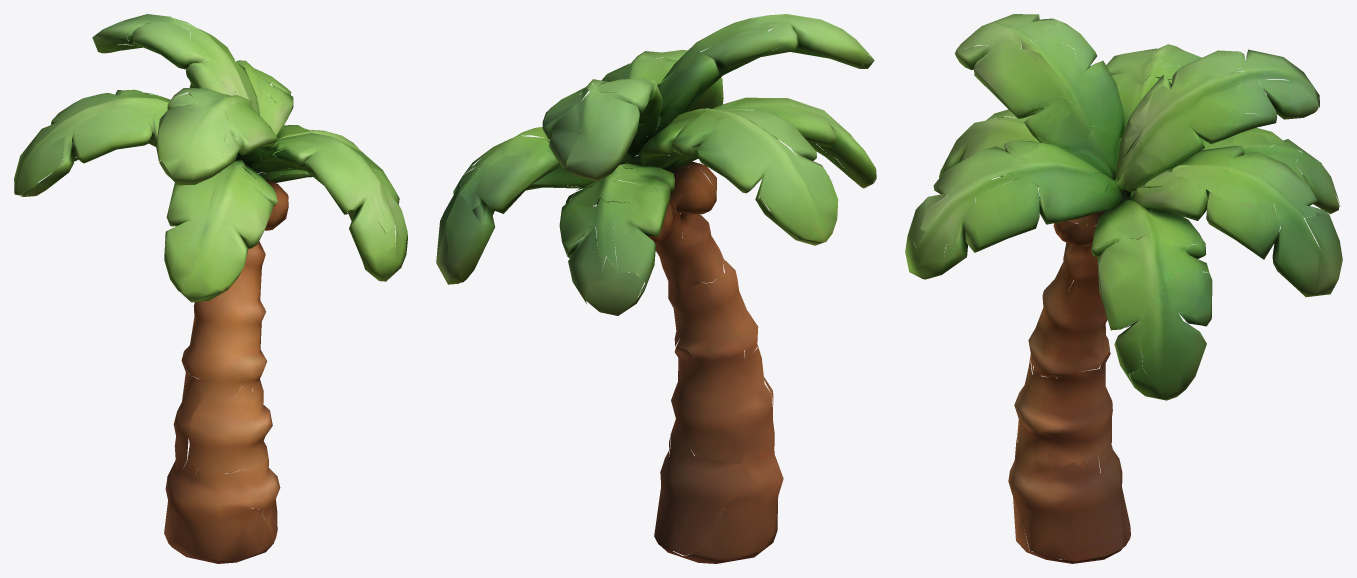
Rendered from palm_lite.glb.
3 renders of one model, left to right at view 1: azimuth 30°, elevation 25°; view 2: azimuth 150°, elevation 25°; view 3: azimuth 270°, elevation 25°, orthographic. The views are drawn at different scales.
Visible parts, largest first — view 1: tripo_node_2e10e8a2-3fec-4771-bced-0935fc4a648e; view 2: tripo_node_2e10e8a2-3fec-4771-bced-0935fc4a648e; view 3: tripo_node_2e10e8a2-3fec-4771-bced-0935fc4a648e.
Boxes of the visible parts, x1,y1,x2,y2 form: tripo_node_2e10e8a2-3fec-4771-bced-0935fc4a648e: (14,14,407,563); tripo_node_2e10e8a2-3fec-4771-bced-0935fc4a648e: (436,14,876,563); tripo_node_2e10e8a2-3fec-4771-bced-0935fc4a648e: (905,14,1342,563).
Bounding box in the file's own units: 0.7779 × 0.979 × 0.7827.
Materials: 1 (1 with a texture image).
